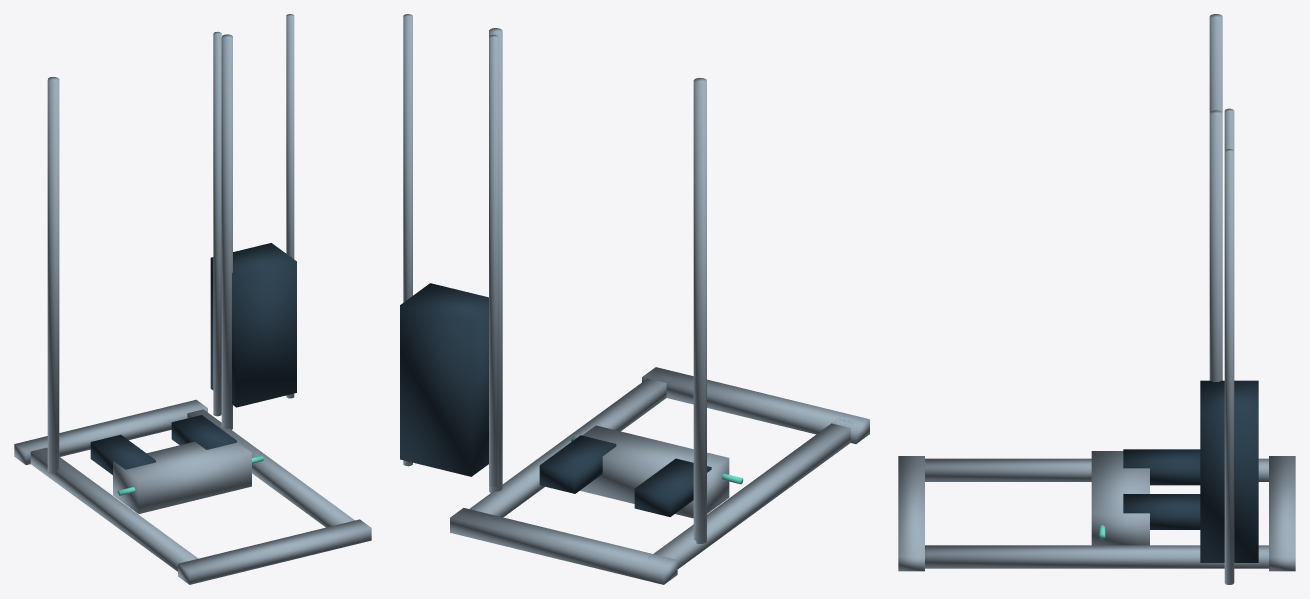
Rendered from machine_b_standing_calf_raise.glb.
3 views of the same model, side by side, from view 1: azimuth 30°, elevation 25°; view 2: azimuth 150°, elevation 25°; view 3: azimuth 270°, elevation 25° (orthographic). The views are drawn at different scales.
Parts seen in each view (by area): view 1: base, weight_stack, forefoot_platform, guide-1, guide1, guide_-1, shoulder_pads, guide_1; view 2: base, weight_stack, guide-1, forefoot_platform, shoulder_pads, guide_-1, guide_1, guide1; view 3: base, weight_stack, shoulder_pads, guide_1, forefoot_platform, guide1, guide-1.
Part boxes in pixels (x1,y1,x2,y2): base: [14, 399, 371, 584]; weight_stack: [210, 243, 296, 407]; forefoot_platform: [113, 441, 251, 513]; guide-1: [47, 77, 59, 473]; guide1: [221, 34, 232, 429]; guide_-1: [213, 31, 221, 416]; shoulder_pads: [90, 415, 236, 474]; guide_1: [286, 14, 294, 398]; base: [450, 367, 869, 584]; weight_stack: [400, 283, 488, 476]; guide-1: [693, 78, 706, 543]; forefoot_platform: [580, 425, 729, 518]; shoulder_pads: [539, 435, 711, 516]; guide_-1: [489, 35, 498, 486]; guide_1: [403, 14, 412, 466]; guide1: [489, 28, 502, 492]; base: [898, 456, 1295, 571]; weight_stack: [1200, 380, 1258, 562]; shoulder_pads: [1123, 449, 1200, 529]; guide_1: [1224, 149, 1234, 584]; forefoot_platform: [1091, 451, 1149, 545]; guide1: [1209, 110, 1222, 381]; guide-1: [1209, 14, 1222, 112].
Bounding box in the file's own units: 1.24 × 1.9 × 1.5.
